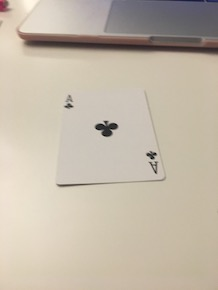AceOfClubs: (51, 85, 169, 191)
